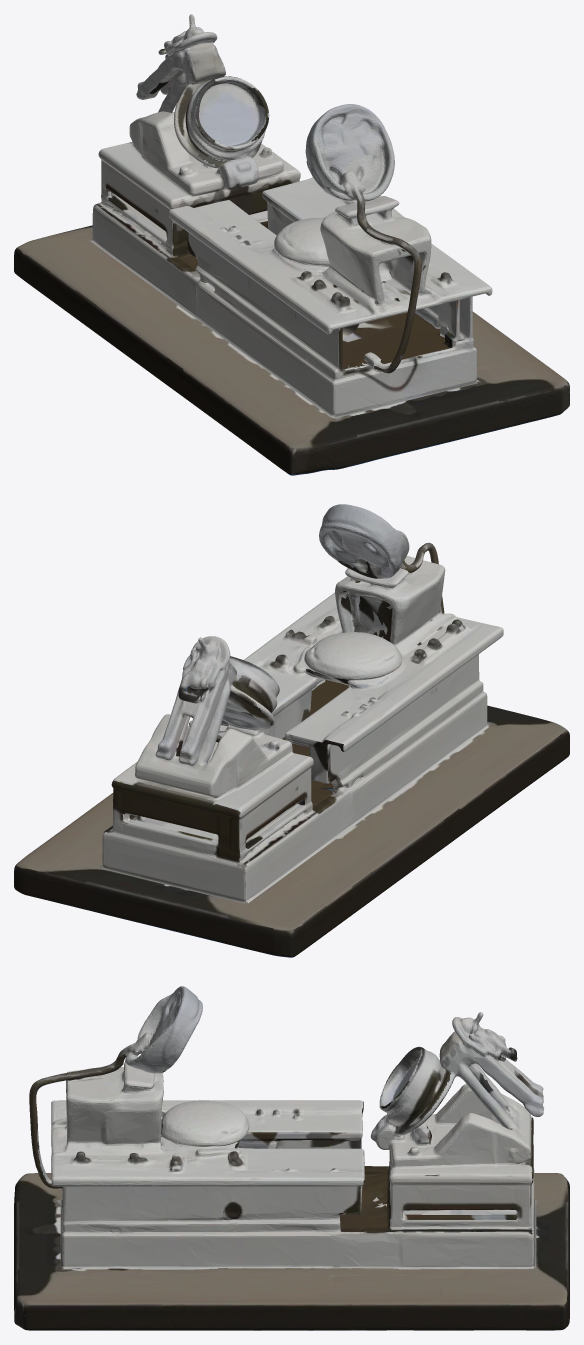
File: comp_telescope.glb
The picture shows the model from 3 angles, top to bottom: view 1: azimuth 30°, elevation 25°; view 2: azimuth 150°, elevation 25°; view 3: azimuth 270°, elevation 25°; orthographic projection. The views are drawn at different scales.
Visible parts, largest first — view 1: geometry_0; view 2: geometry_0; view 3: geometry_0.
Part boxes in pixels (left/top/right/bottom): geometry_0: left=14, top=14, right=569, bottom=475; geometry_0: left=14, top=504, right=569, bottom=957; geometry_0: left=14, top=986, right=569, bottom=1330.
Size of the model in its own units: 1.14 by 1.08 by 1.99.
Materials: 1 (1 with a texture image).
